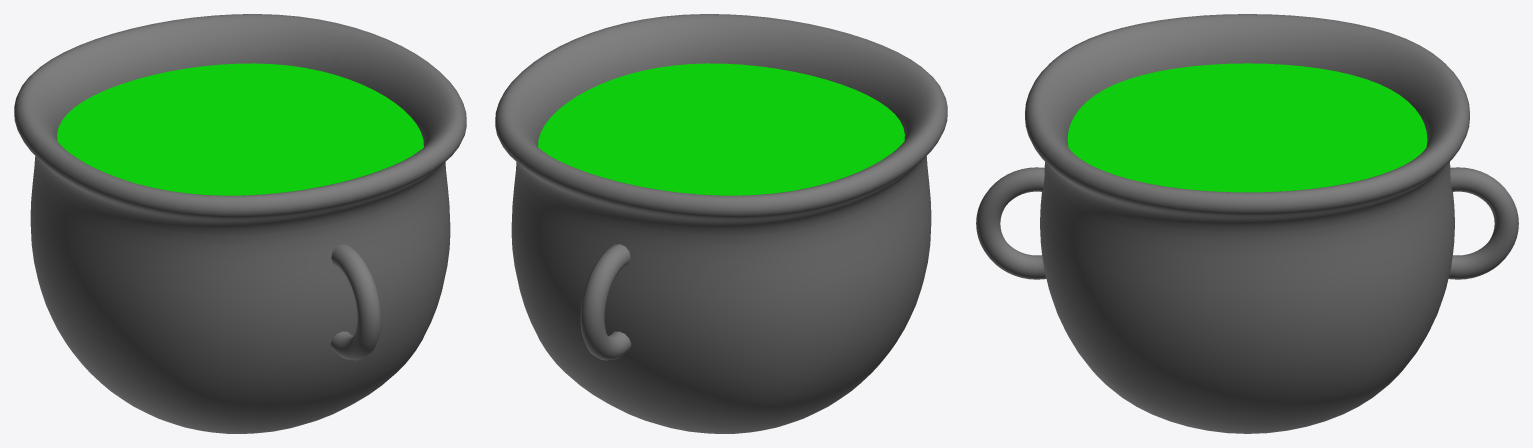
The model's file is cauldron.fbx.
3 renders of one model, left to right at view 1: azimuth 30°, elevation 25°; view 2: azimuth 150°, elevation 25°; view 3: azimuth 270°, elevation 25°, orthographic.
Parts seen in each view (by area): view 1: Cauldron, Liquid, Ears; view 2: Cauldron, Liquid, Ears; view 3: Cauldron, Liquid, Ears.
Boxes of the visible parts, x1,y1,x2,y2 form: Cauldron: [14, 14, 466, 433]; Liquid: [57, 63, 423, 195]; Ears: [330, 244, 381, 360]; Cauldron: [495, 14, 947, 433]; Liquid: [538, 63, 904, 195]; Ears: [580, 244, 631, 360]; Cauldron: [1025, 14, 1469, 433]; Liquid: [1067, 63, 1427, 192]; Ears: [976, 167, 1518, 279].
Bounding box in the file's own units: 172 × 131 × 210.
